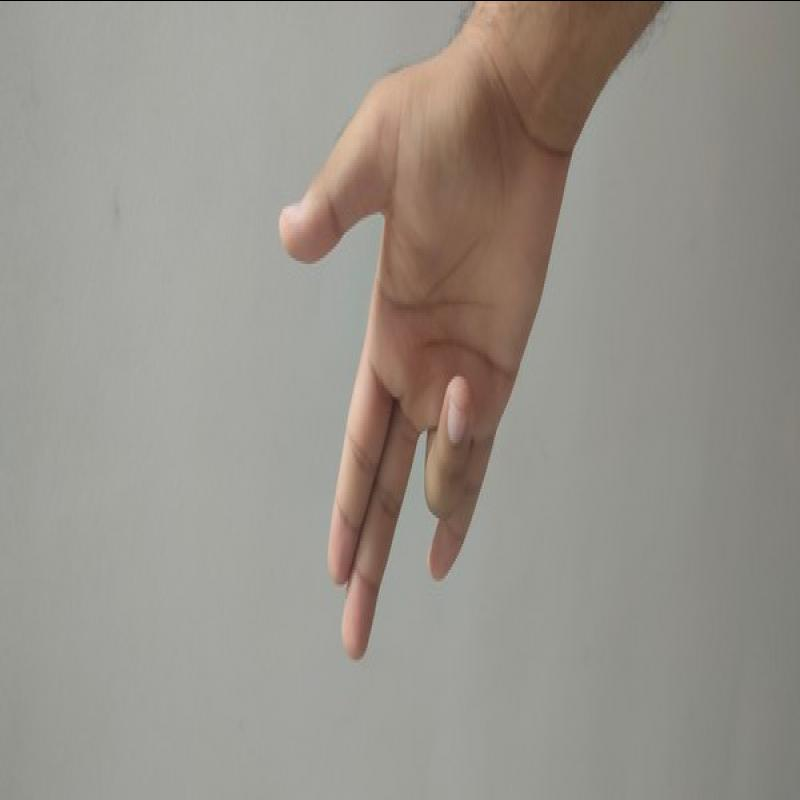Pathaaka: (265, 60, 579, 680)
